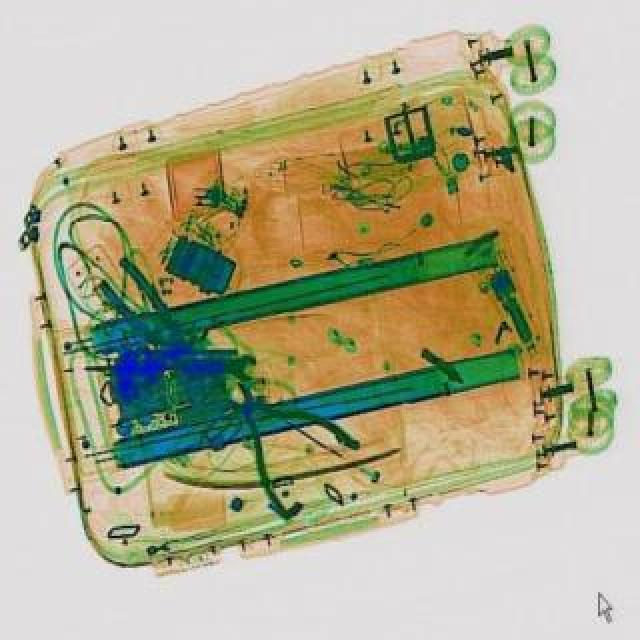wrench: (188, 350, 370, 520), (88, 252, 220, 386)
